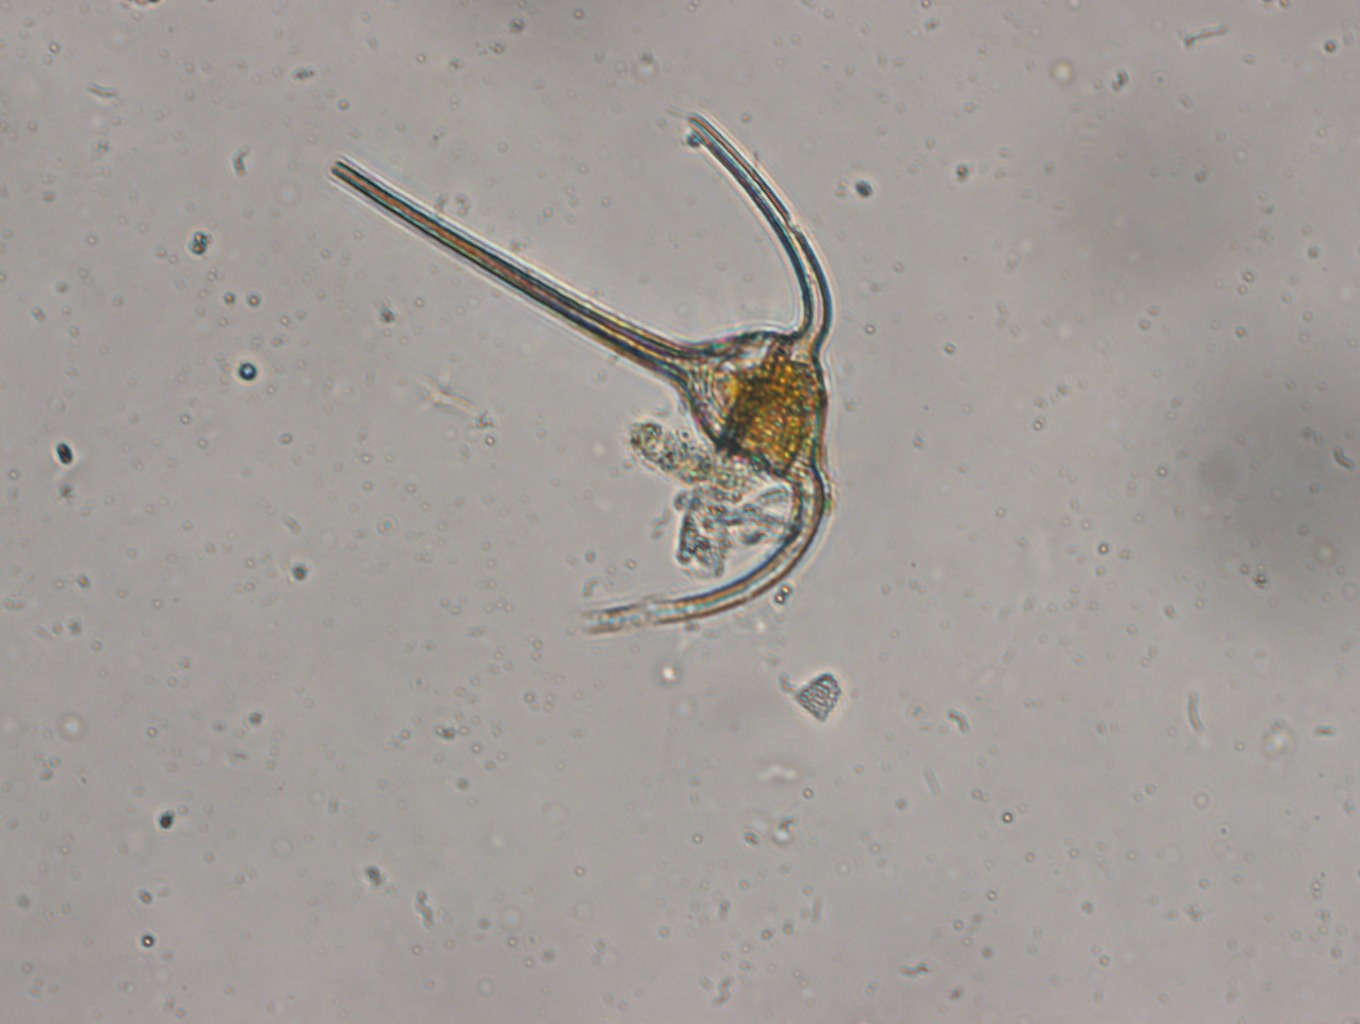ceratium trichoceros: (326, 102, 840, 646)
